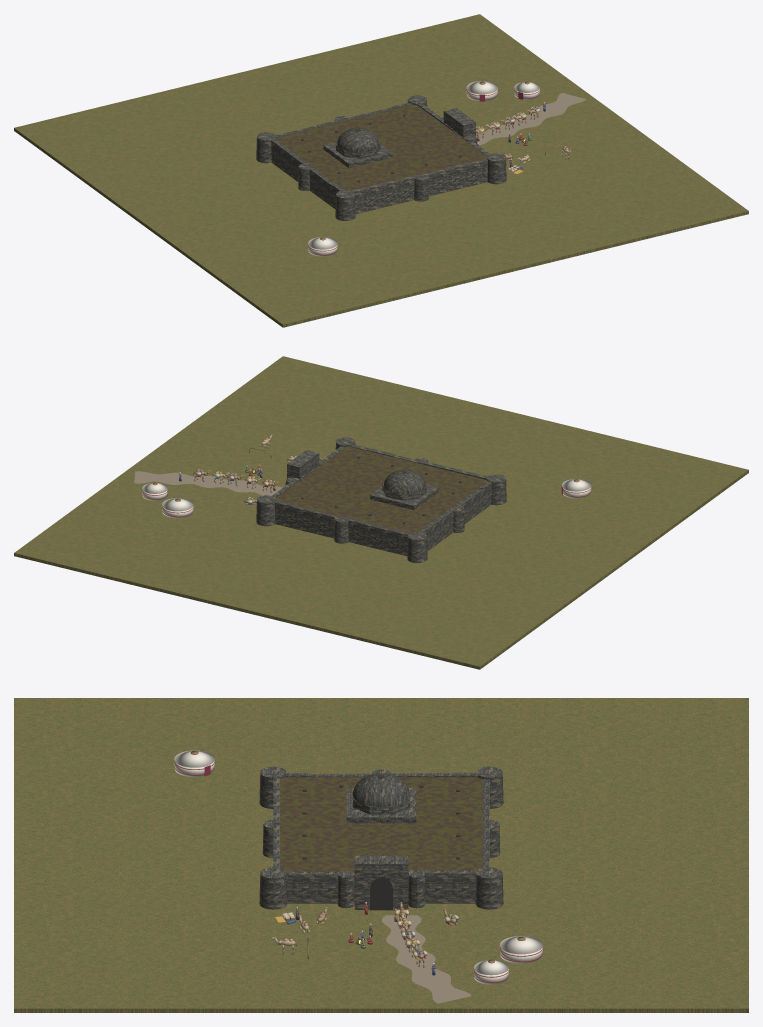
File: tash-rabat-karavan.glb
3 views of the same model, one above another, from view 1: azimuth 30°, elevation 25°; view 2: azimuth 150°, elevation 25°; view 3: azimuth 270°, elevation 25° (orthographic). The views are drawn at different scales.
Parts seen in each view (by area): view 1: Земля, Кровля, Корпус, Тропа каравана, Купол, Основание купола, Портал, Угловая башня, Юрта, Угловая башня.002, Юрта.002; view 2: Земля, Кровля, Корпус, Тропа каравана, Купол, Основание купола, Портал, Угловая башня.001, Угловая башня.003, Юрта, Юрта.002; view 3: Земля, Кровля, Корпус, Тропа каравана, Портал, Купол, Основание купола, Угловая башня.002, Угловая башня.003, Юрта, Юрта.002, Юрта.001 (+6 smaller).
Boxes of the visible parts, <box> form: Земля: <box>14,14,748,327</box>; Кровля: <box>276,104,486,190</box>; Корпус: <box>271,142,487,213</box>; Тропа каравана: <box>476,93,585,145</box>; Купол: <box>337,127,378,152</box>; Основание купола: <box>323,142,392,168</box>; Портал: <box>443,108,475,137</box>; Угловая башня: <box>335,190,355,220</box>; Юрта: <box>466,81,498,101</box>; Угловая башня.002: <box>487,153,506,184</box>; Юрта.002: <box>308,237,337,256</box>; Земля: <box>14,356,748,669</box>; Кровля: <box>276,446,487,533</box>; Корпус: <box>275,484,491,555</box>; Тропа каравана: <box>134,471,282,495</box>; Купол: <box>384,469,425,494</box>; Основание купола: <box>370,484,439,510</box>; Портал: <box>287,450,319,478</box>; Угловая башня.001: <box>407,532,427,562</box>; Угловая башня.003: <box>256,495,275,526</box>; Юрта: <box>162,498,193,518</box>; Юрта.002: <box>561,479,591,498</box>; Земля: <box>14,698,748,1012</box>; Кровля: <box>280,777,482,871</box>; Корпус: <box>286,876,476,903</box>; Тропа каравана: <box>382,915,471,1003</box>; Портал: <box>354,855,408,909</box>; Купол: <box>353,773,409,806</box>; Основание купола: <box>346,788,416,823</box>; Угловая башня.002: <box>259,867,287,909</box>; Угловая башня.003: <box>475,867,503,909</box>; Юрта: <box>500,936,543,963</box>; Юрта.002: <box>174,750,214,777</box>; Юрта.001: <box>474,959,508,984</box>.
Size of the model in its own units: 110 by 10.85 by 110.
Materials: 31 (4 with a texture image).
